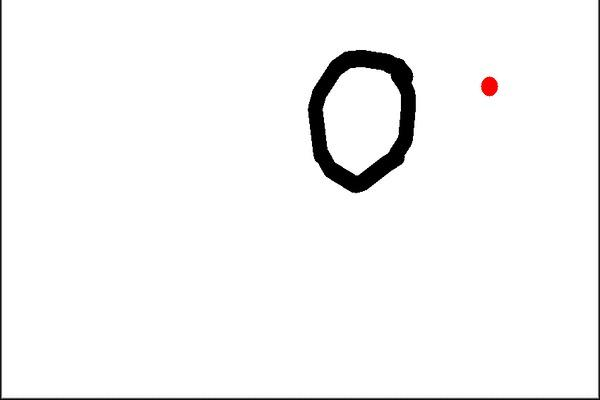O: (291, 31, 423, 198)
